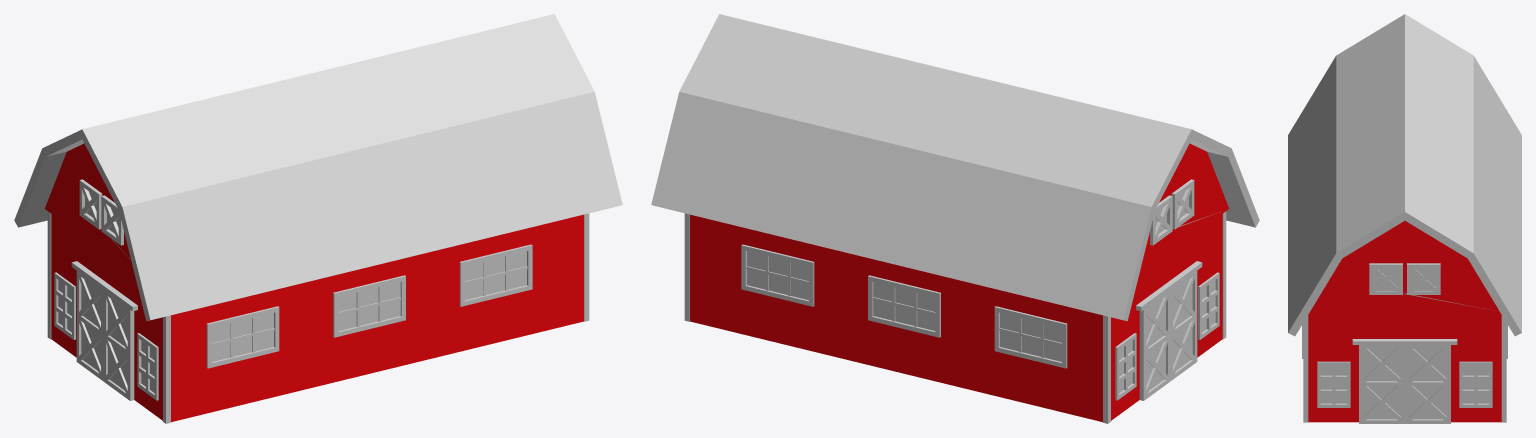
File: Lada.glb
3 renders of one model, left to right at view 1: azimuth 30°, elevation 25°; view 2: azimuth 150°, elevation 25°; view 3: azimuth 270°, elevation 25°, orthographic. The views are drawn at different scales.
Visible parts, largest first — view 1: Mesh_0; view 2: Mesh_0; view 3: Mesh_0.
Boxes of the visible parts, box(x1,y1,x2,y2) form: Mesh_0: box(14, 14, 622, 423); Mesh_0: box(651, 14, 1259, 423); Mesh_0: box(1288, 14, 1521, 423).
Size of the model in its own units: 0.0112 by 0.00583 by 0.0056.
